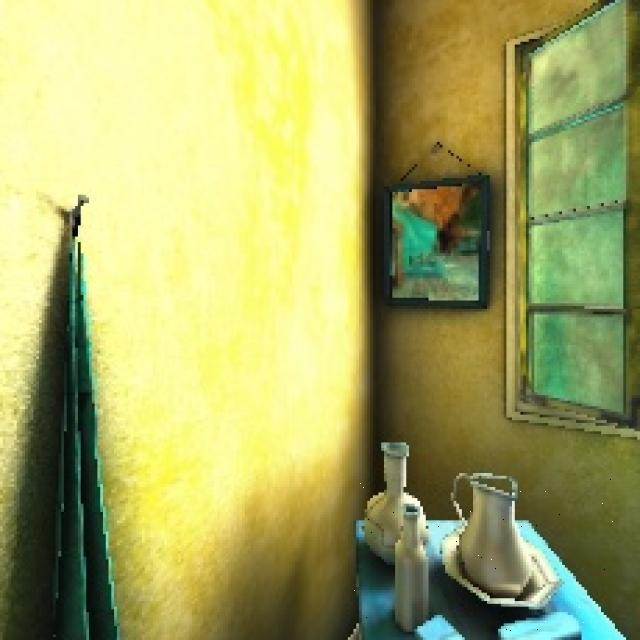table: (348, 473, 615, 640)
